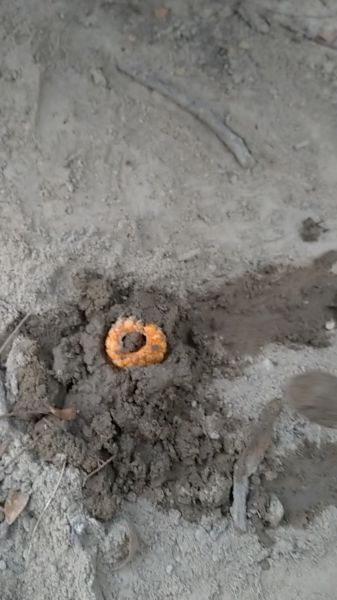eggs: (103, 314, 169, 377)
